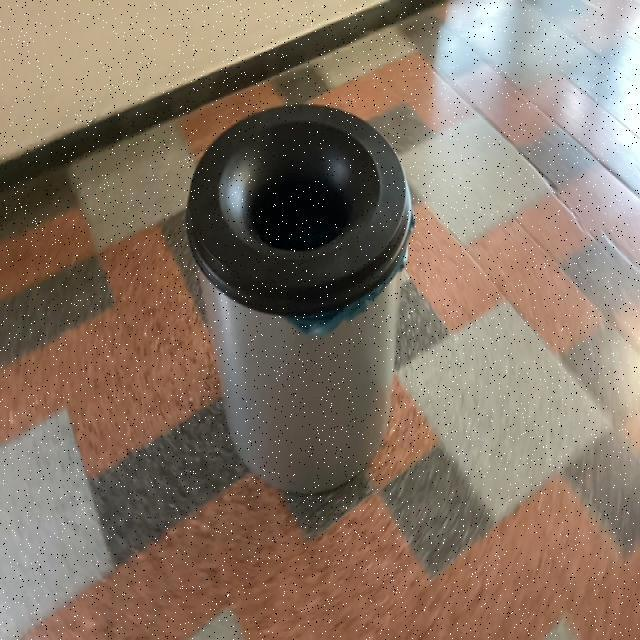garbage container: (166, 65, 429, 510)
